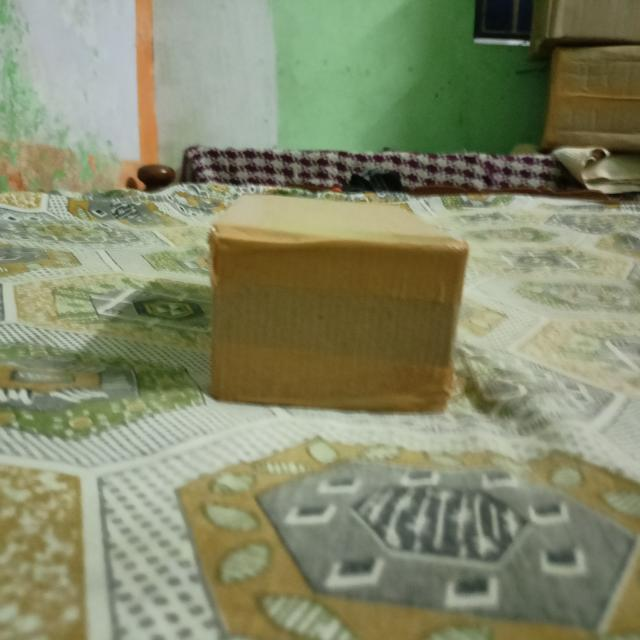box: (209, 226, 468, 412)
